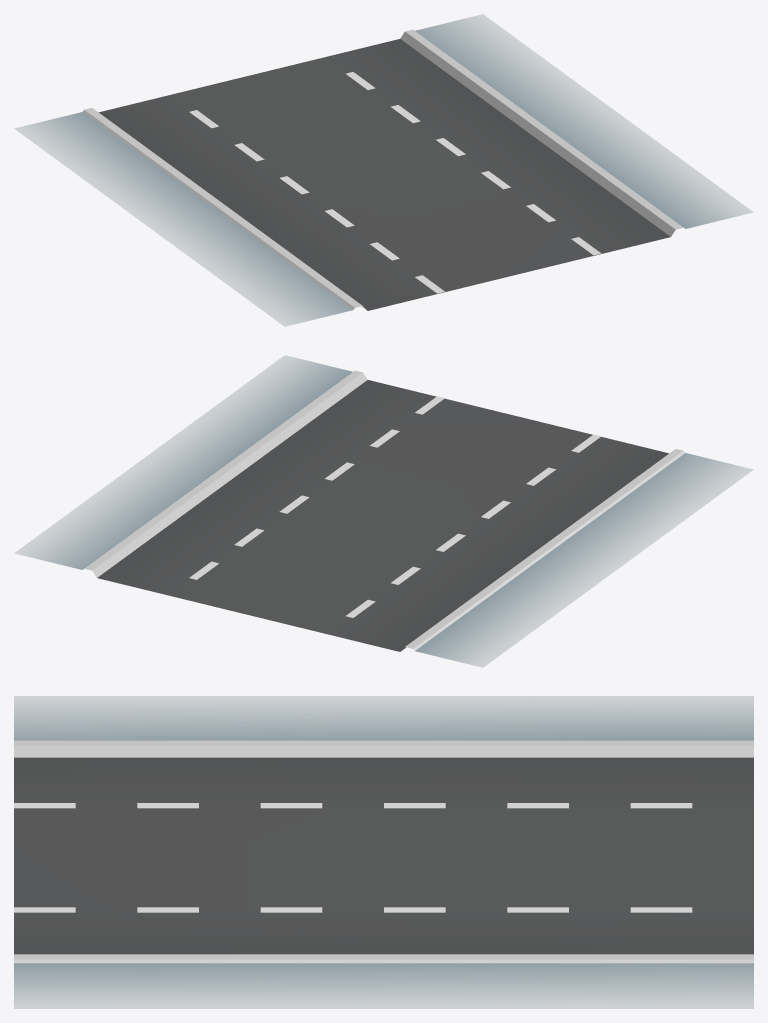
The model's file is BRoad01.fbx.
3 renders of one model, top to bottom at view 1: azimuth 30°, elevation 25°; view 2: azimuth 150°, elevation 25°; view 3: azimuth 270°, elevation 25°, orthographic. The views are drawn at different scales.
Visible parts, largest first — view 1: BRoad01; view 2: BRoad01; view 3: BRoad01.
Boxes of the visible parts, x1=… form: BRoad01: x1=14, y1=14, x2=753, y2=326; BRoad01: x1=14, y1=355, x2=753, y2=667; BRoad01: x1=14, y1=696, x2=753, y2=1008.
Size of the model in its own units: 3 by 0.0379 by 3.
